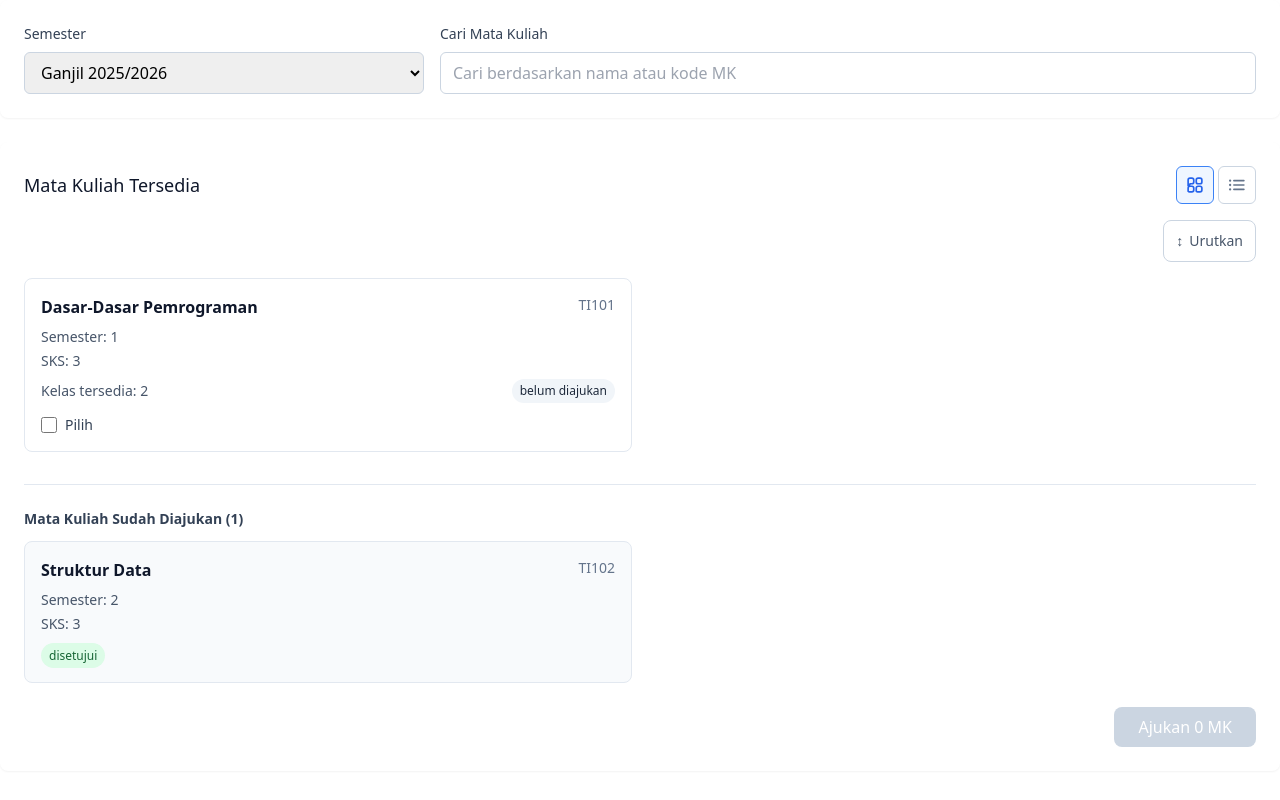
Test: DosenSelectMK (T3.9 — semester dari /dosen/semesters + search 3 huruf) › checkbox dalam kartu MK dengan label Pilih/Dipilih
Check: the heading "Dasar-Dasar Pemrograman" is shown, box [41,295,258,319]
Check: the text "Dasar-Dasar Pemrograman" is shown, box [41,296,258,318]
Click the checkbox labelled "Pilih".
click(49, 425)  # box [41,417,57,433]
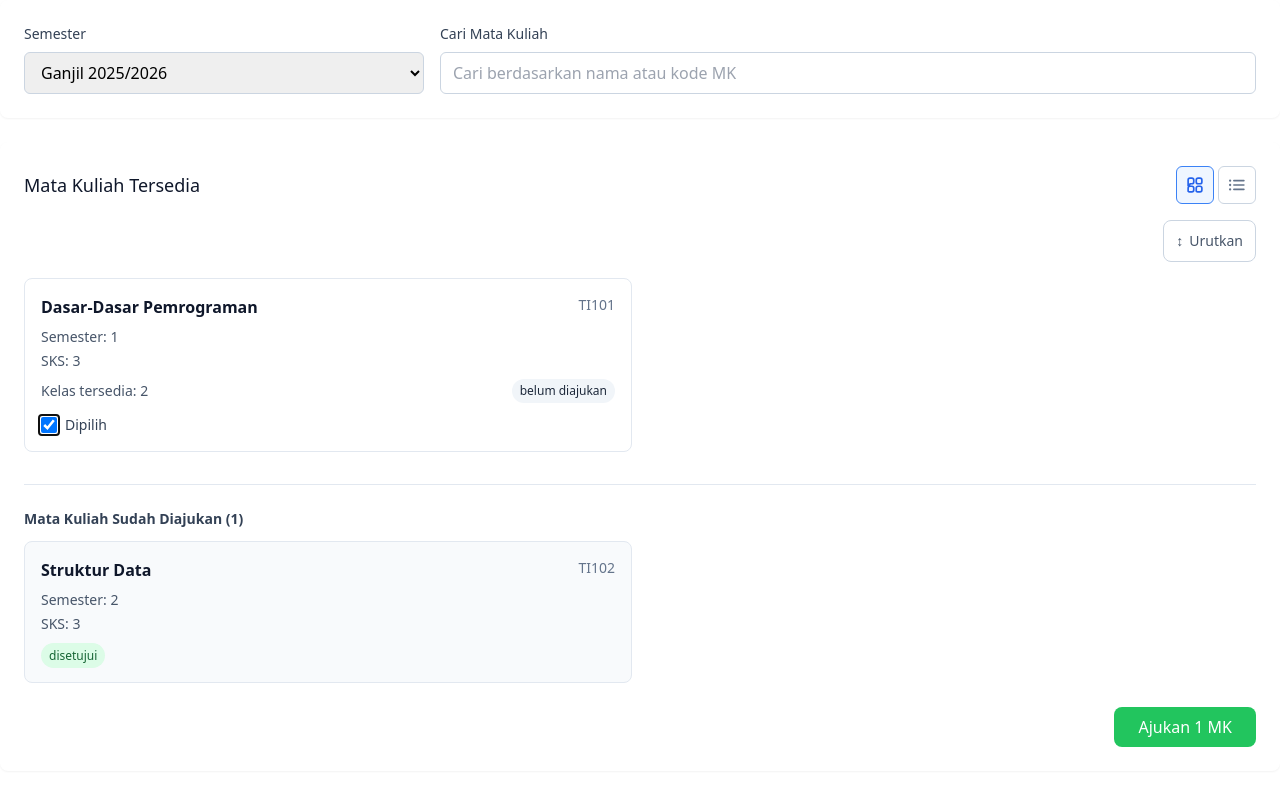
Check: the text "Dipilih" is shown, box [65,415,107,435]
